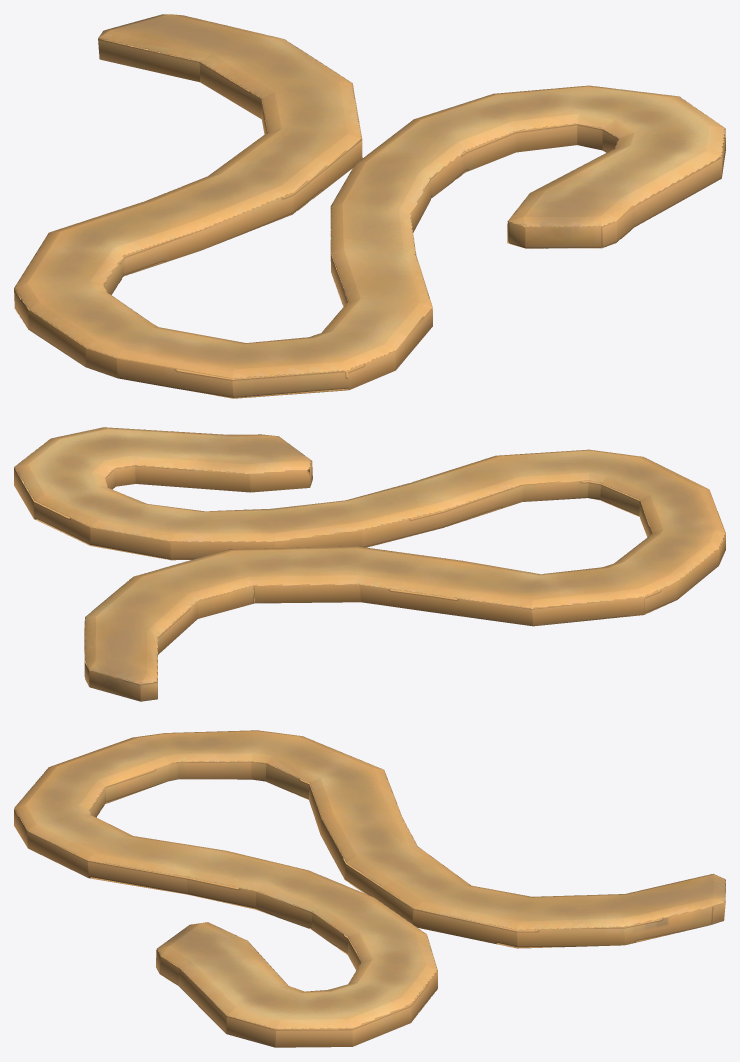
The model's file is BottomPath.fbx.
3 views of the same model, one above another, from view 1: azimuth 30°, elevation 25°; view 2: azimuth 150°, elevation 25°; view 3: azimuth 270°, elevation 25° (orthographic). The views are drawn at different scales.
Parts seen in each view (by area): view 1: Cube; view 2: Cube; view 3: Cube.
Part boxes in pixels (left/top/right/bottom): Cube: left=14, top=14, right=725, bottom=398; Cube: left=14, top=427, right=725, bottom=701; Cube: left=14, top=730, right=725, bottom=1047.
Bounding box in the file's own units: 2943 × 132 × 2958.
